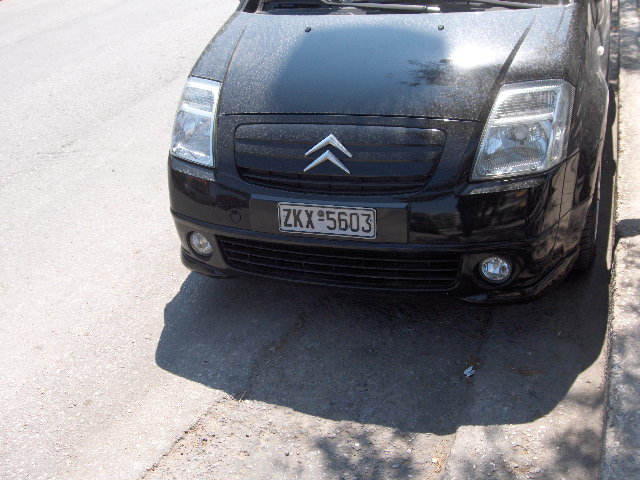licenseplate: (274, 200, 377, 240)
